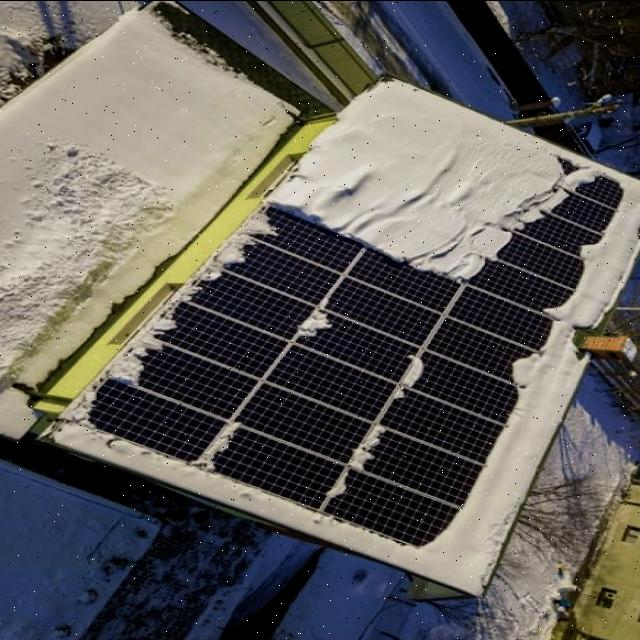Anomaly Solar Panel: (57, 11, 640, 625)
Snow: (54, 11, 640, 622), (106, 204, 290, 392), (326, 418, 394, 507), (292, 295, 346, 349), (389, 355, 432, 408)
